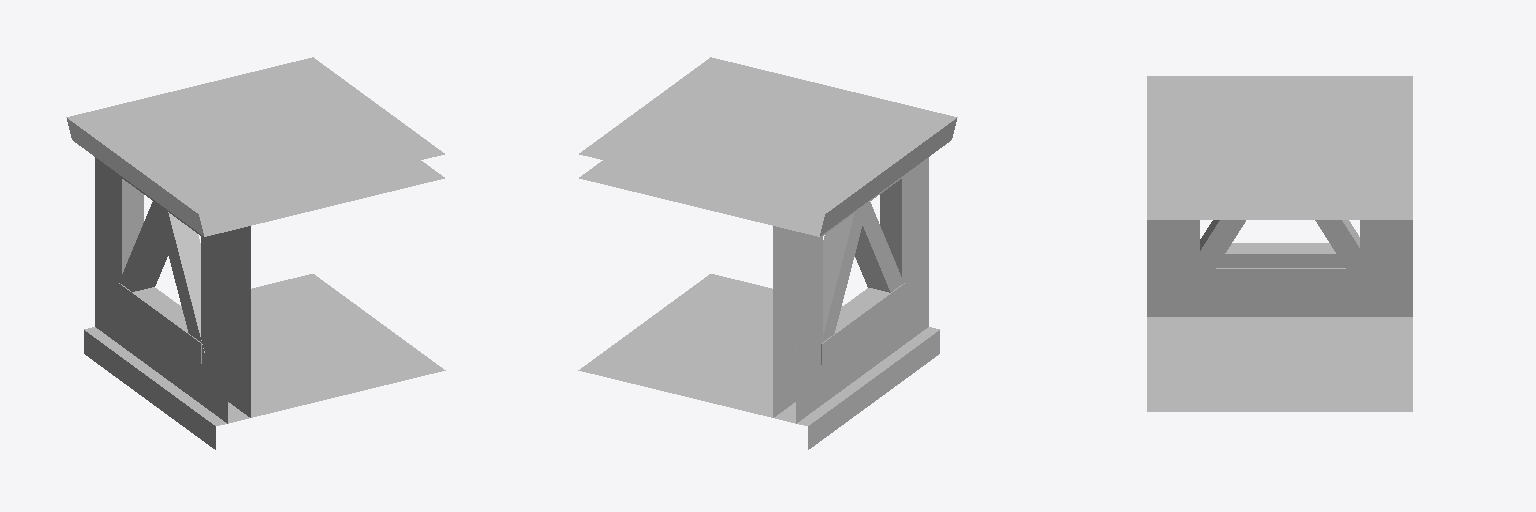
3 views of the same model, side by side, from view 1: azimuth 30°, elevation 25°; view 2: azimuth 150°, elevation 25°; view 3: azimuth 270°, elevation 25° (orthographic).
Visible parts, largest first — view 1: objobjobjRegroup09, Box001, Box002, Box003; view 2: objobjobjRegroup09, Box003, Box002, Box001; view 3: objobjobjRegroup09, Box002, Box001, Box003.
Boxes of the visible parts, box(x1,y1,x2,y2) form: objobjobjRegroup09: box(66, 57, 445, 449); Box001: box(155, 201, 204, 355); Box002: box(118, 283, 201, 363); Box003: box(116, 200, 167, 291); objobjobjRegroup09: box(578, 57, 957, 449); Box003: box(795, 211, 863, 355); Box002: box(821, 283, 904, 364); Box001: box(855, 200, 906, 292); objobjobjRegroup09: box(1147, 76, 1412, 411); Box002: box(1217, 243, 1344, 267); Box001: box(1200, 220, 1245, 268); Box003: box(1315, 220, 1359, 268).
Size of the model in its own units: 10.75 by 10 by 10.